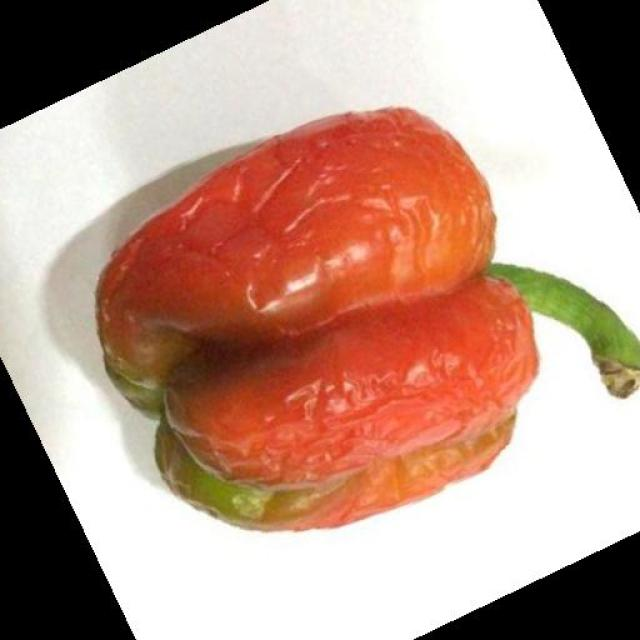Stale_Capsicum: (95, 120, 640, 516)
